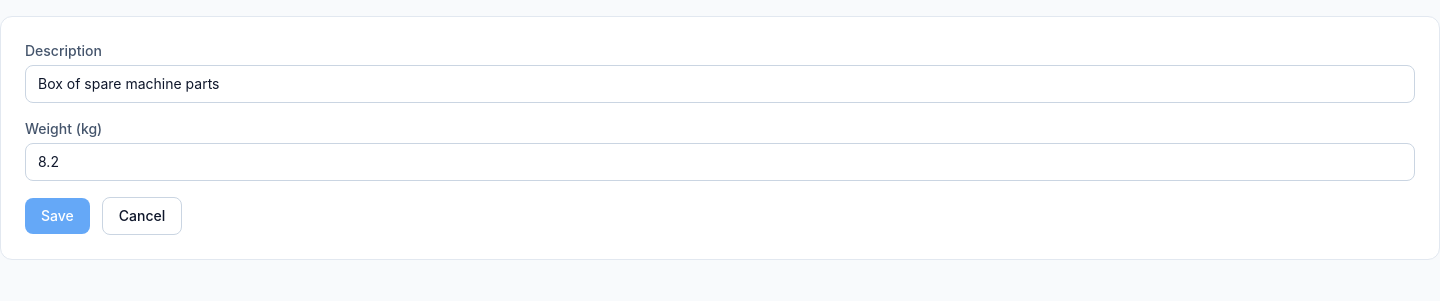
EditShipmentForm › requires a description and sends nothing without one
Step 1. Clear the field labelled "Description" → (720, 84), box left=25, top=65, right=1415, bottom=103
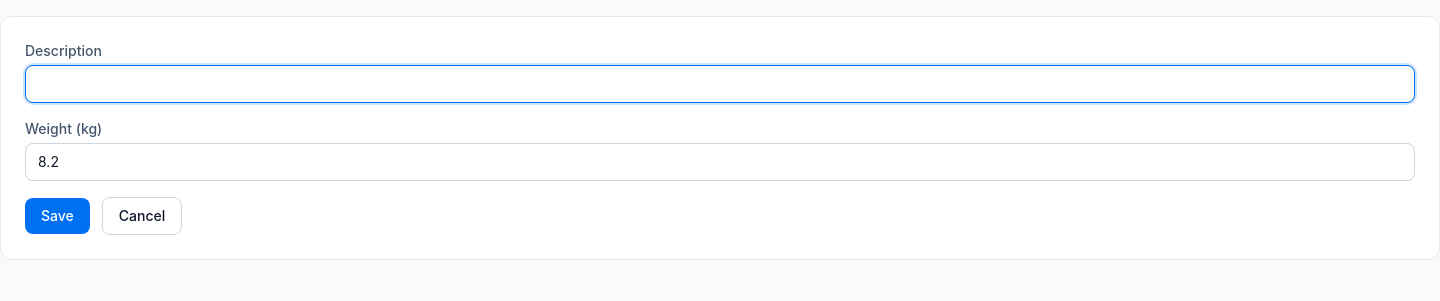
Step 2. Clear the number field labelled "Weight (kg)" → (720, 162), box left=25, top=143, right=1415, bottom=181
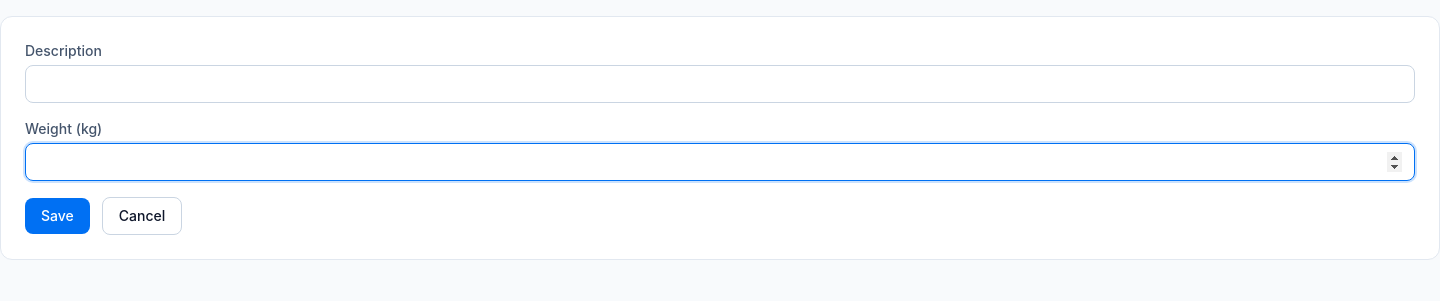
Step 3. Click the button "Save" → (57, 216), box left=25, top=198, right=90, bottom=234
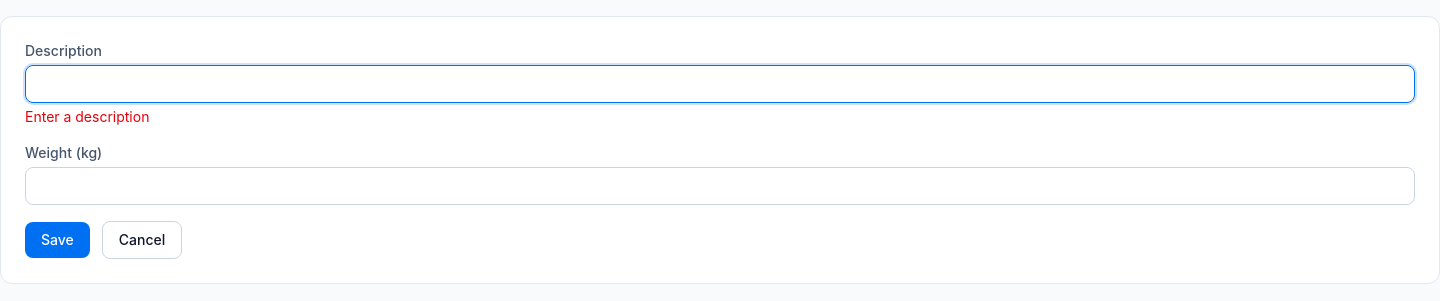
expect the message reads "Enter a description": met, box left=25, top=108, right=149, bottom=125
